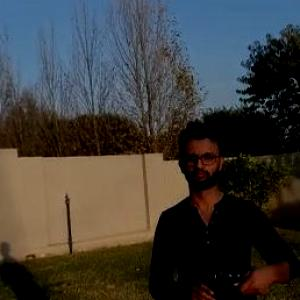follow: (144, 113, 300, 299)
